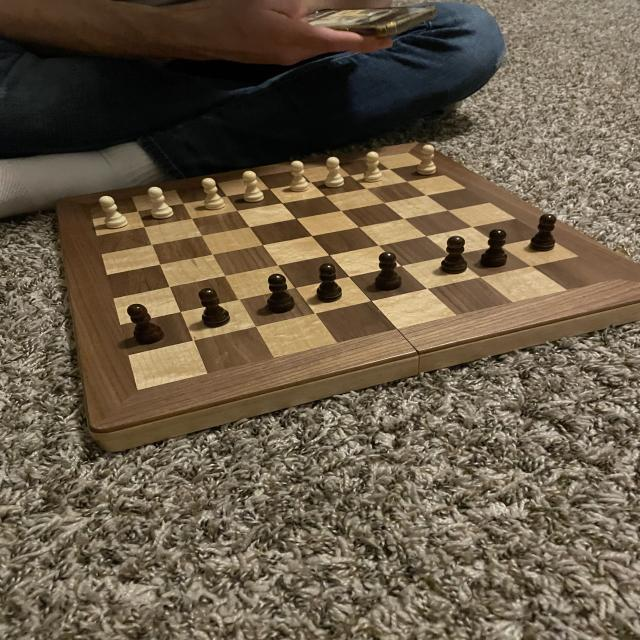black-knight: (123, 300, 167, 351), (196, 285, 232, 331), (478, 226, 512, 270), (263, 272, 297, 315), (311, 262, 343, 306), (439, 234, 471, 277), (373, 250, 405, 292), (528, 212, 560, 254)
white-knight: (96, 192, 130, 232), (146, 185, 175, 221), (199, 177, 229, 211), (358, 150, 386, 185), (239, 169, 265, 205), (286, 159, 312, 193), (414, 144, 440, 176), (323, 156, 346, 190)
